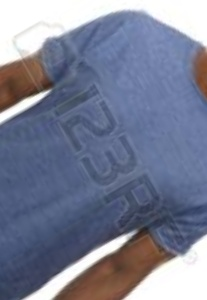arm: (58, 234, 204, 299), (1, 11, 68, 84)
chest: (1, 24, 202, 245)
